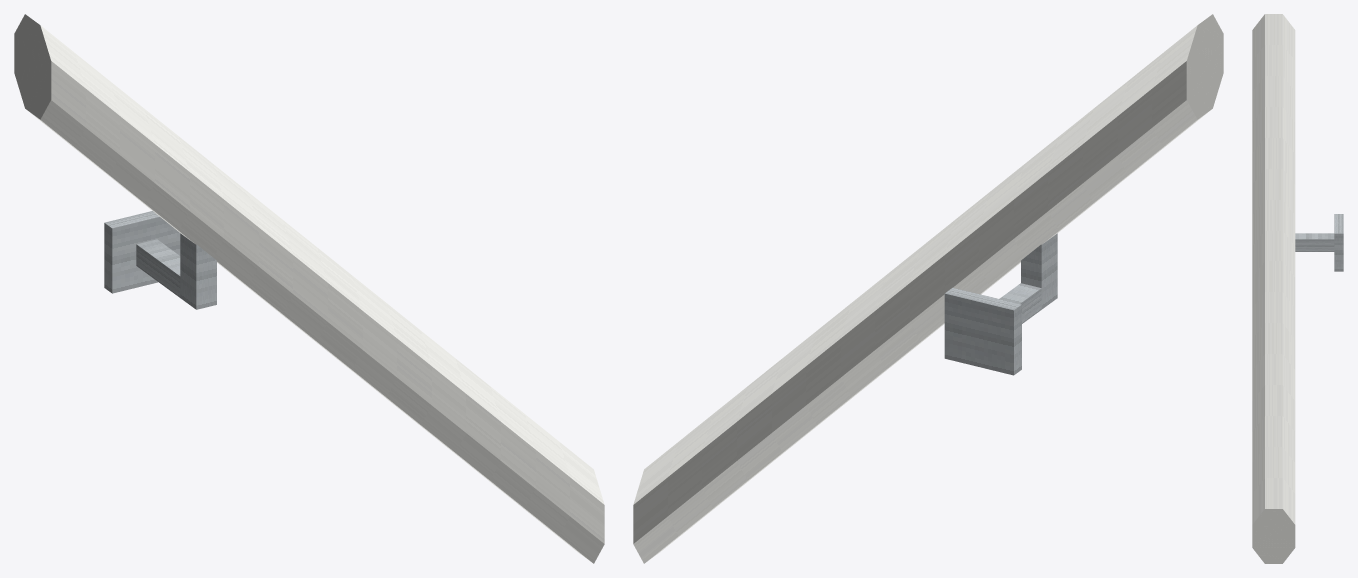
File: mid_neg.obj
The picture shows the model from 3 angles, left to right: view 1: azimuth 30°, elevation 25°; view 2: azimuth 150°, elevation 25°; view 3: azimuth 270°, elevation 25°; orthographic projection. The views are drawn at different scales.
Parts seen in each view (by area): view 1: handrail_wall_white_round_mid_neg; view 2: handrail_wall_white_round_mid_neg; view 3: handrail_wall_white_round_mid_neg.
Part boxes in pixels (<box>): handrail_wall_white_round_mid_neg: <box>14,14,604,563</box>; handrail_wall_white_round_mid_neg: <box>633,14,1223,563</box>; handrail_wall_white_round_mid_neg: <box>1252,14,1343,563</box>.
Size of the model in its own units: 1 by 1.16 by 0.2452.
